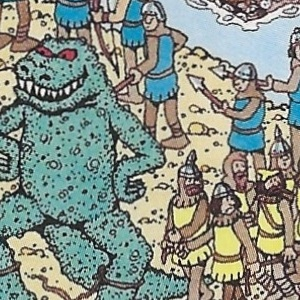Charlie: (122, 84, 178, 215)
